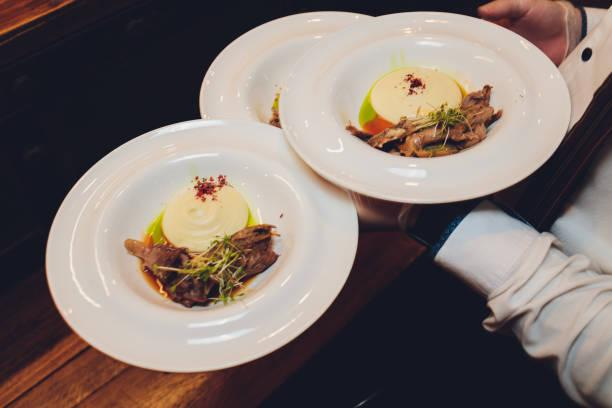Braised Crucian Carp: (44, 118, 357, 374), (277, 10, 566, 200)
